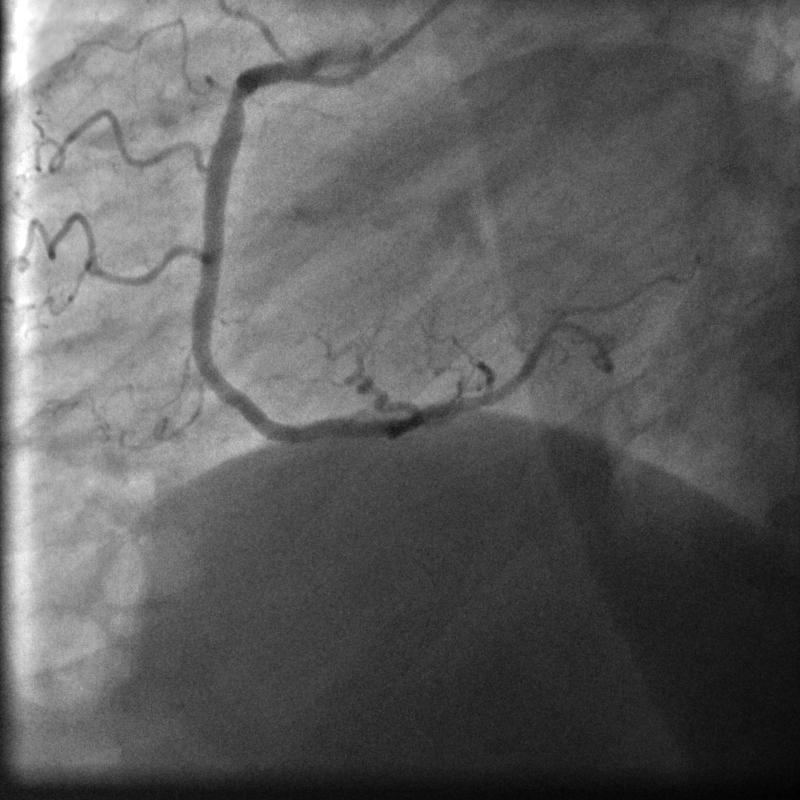Stenosis: (222, 70, 253, 124)
